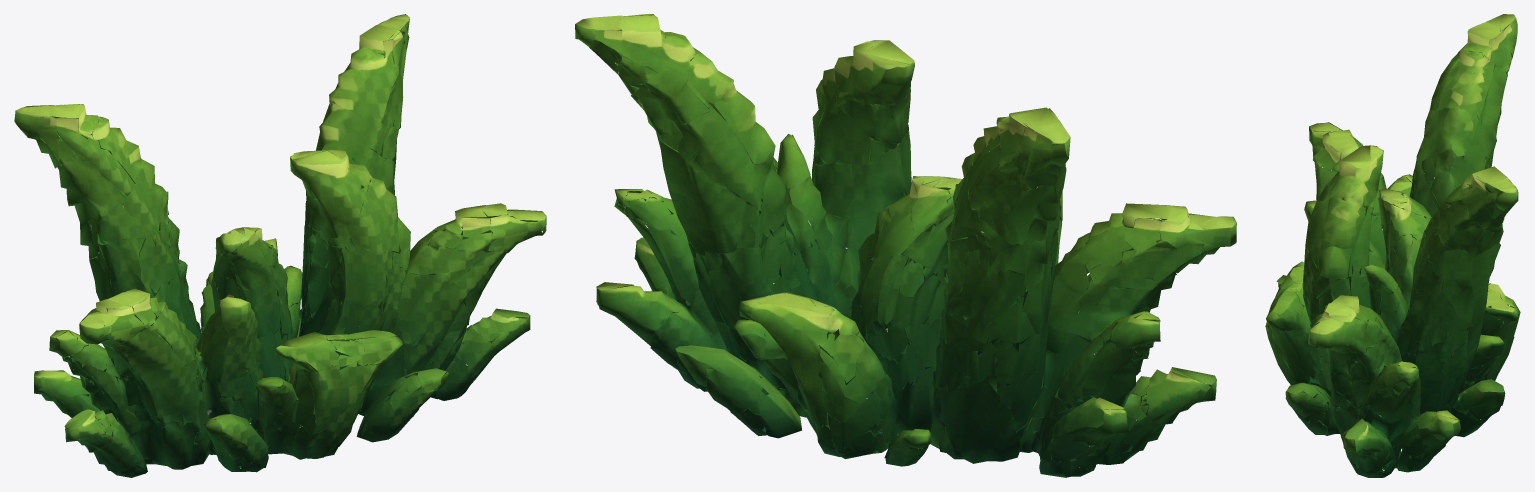
Rendered from small_grass_1.glb.
The picture shows the model from 3 angles, left to right: view 1: azimuth 30°, elevation 25°; view 2: azimuth 150°, elevation 25°; view 3: azimuth 270°, elevation 25°; orthographic projection. The views are drawn at different scales.
Visible parts, largest first — view 1: Mesh_0; view 2: Mesh_0; view 3: Mesh_0.
Boxes of the visible parts, x1,y1,x2,y2 form: Mesh_0: (14,14,546,477); Mesh_0: (575,14,1236,477); Mesh_0: (1265,14,1520,477).
Bounding box in the file's own units: 1.9 × 1.24 × 0.966.
Materials: 1 (1 with a texture image).
